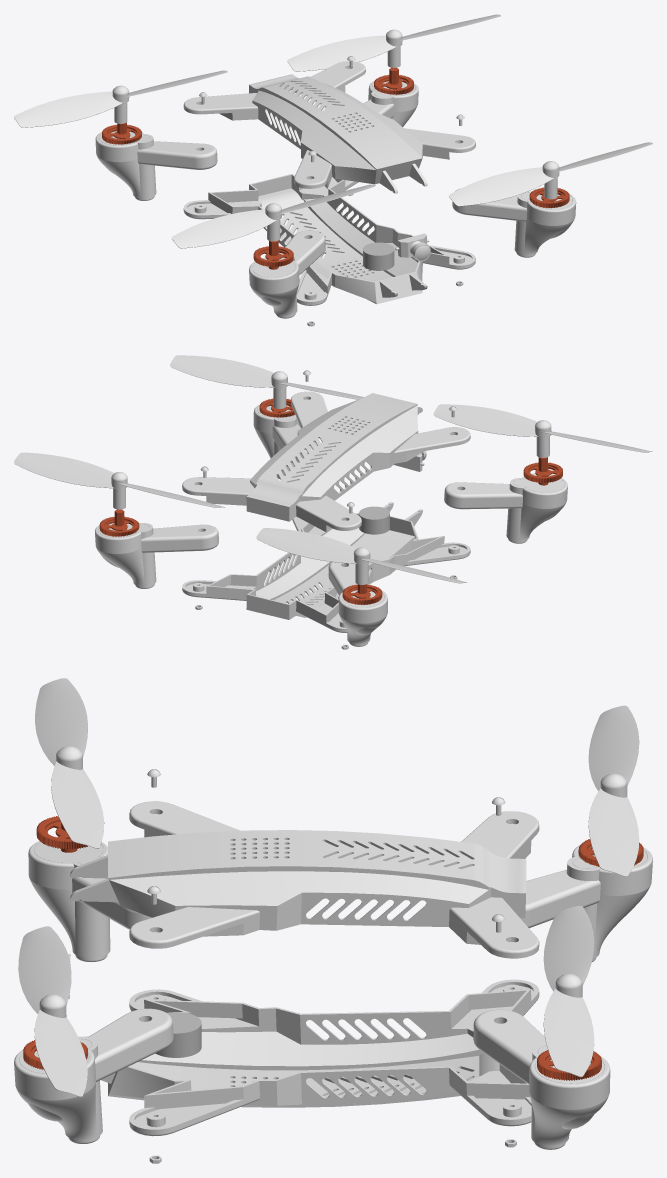
Rendered from Drone2.glb.
The picture shows the model from 3 angles, top to bottom: view 1: azimuth 30°, elevation 25°; view 2: azimuth 150°, elevation 25°; view 3: azimuth 270°, elevation 25°; orthographic projection. The views are drawn at different scales.
Parts seen in each view (by area): view 1: Solid1.005, Solid1.006, Solid1.012, Solid1.015, Solid1.009, Solid1.011, Solid1.008, Solid1.014, Solid1.003, Solid1.004, Solid1.019, Solid1.002 (+4 smaller); view 2: Solid1.005, Solid1.006, Solid1.009, Solid1.004, Solid1.011, Solid1.003, Solid1.008, Solid1.014, Solid1.012, Solid1.015, Solid1.019, Solid1.002 (+3 smaller); view 3: Solid1.005, Solid1.006, Solid1.015, Solid1.004, Solid1.014, Solid1.003, Solid1.011, Solid1.008, Solid1.012, Solid1.009, Solid1.019, Solid1.002 (+1 smaller).
Boxes of the visible parts, x1,y1,x2,y2 form: Solid1.005: (183,61,475,193); Solid1.006: (183,173,475,305); Solid1.012: (95,131,217,200); Solid1.015: (452,188,576,257); Solid1.009: (249,230,325,318); Solid1.011: (14,70,227,127); Solid1.008: (171,184,375,248); Solid1.014: (449,142,652,206); Solid1.003: (287,14,500,71); Solid1.004: (364,81,418,126); Solid1.019: (363,242,394,270); Solid1.002: (253,240,293,269); Solid1.005: (182,391,470,532); Solid1.006: (182,502,470,632); Solid1.009: (444,473,567,543); Solid1.004: (95,523,218,588); Solid1.011: (256,528,467,584); Solid1.003: (14,452,224,509); Solid1.008: (433,404,652,457); Solid1.014: (170,355,363,408); Solid1.012: (328,562,387,646); Solid1.015: (253,405,317,478); Solid1.019: (359,506,389,534); Solid1.002: (523,457,562,485); Solid1.005: (70,801,539,958); Solid1.006: (85,979,539,1136); Solid1.015: (14,1008,173,1143); Solid1.004: (473,1009,610,1149); Solid1.014: (18,926,87,1096); Solid1.003: (543,905,594,1077); Solid1.011: (588,705,639,876); Solid1.008: (35,678,104,848); Solid1.012: (520,845,652,961); Solid1.009: (28,836,151,961); Solid1.019: (155,1012,201,1057); Solid1.002: (36,816,87,852).
Size of the model in its own units: 0.3343 by 0.1157 by 0.2367.
